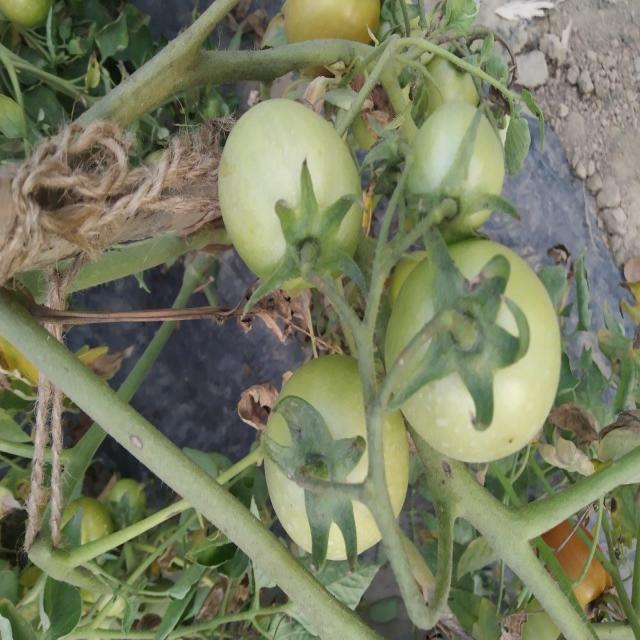Unripe: (389, 234, 562, 463), (264, 351, 407, 561), (219, 94, 364, 296), (407, 99, 505, 235)
